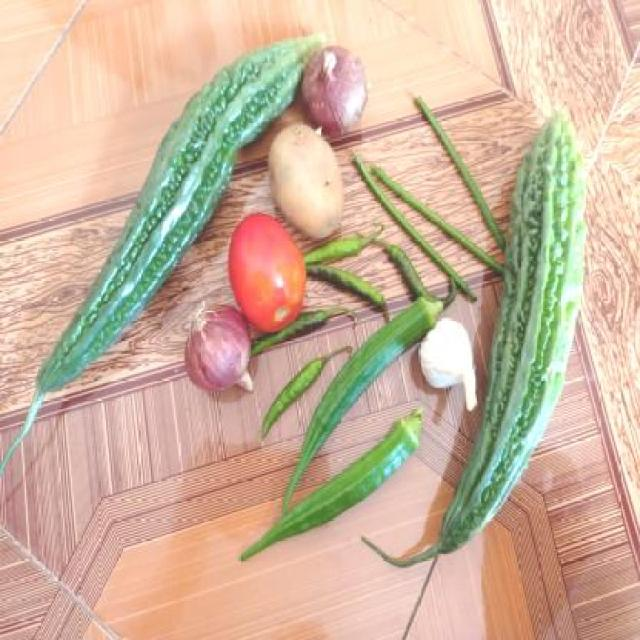Bitter melon: (440, 114, 585, 575), (26, 95, 217, 400)
Garlic: (422, 314, 484, 418)
Green Chili: (252, 346, 332, 442), (306, 266, 396, 319)
Lady finger: (231, 409, 417, 566)
Onion: (184, 305, 258, 400), (305, 44, 366, 134)
Potato: (270, 126, 344, 242)
Tomato: (229, 209, 305, 328)
